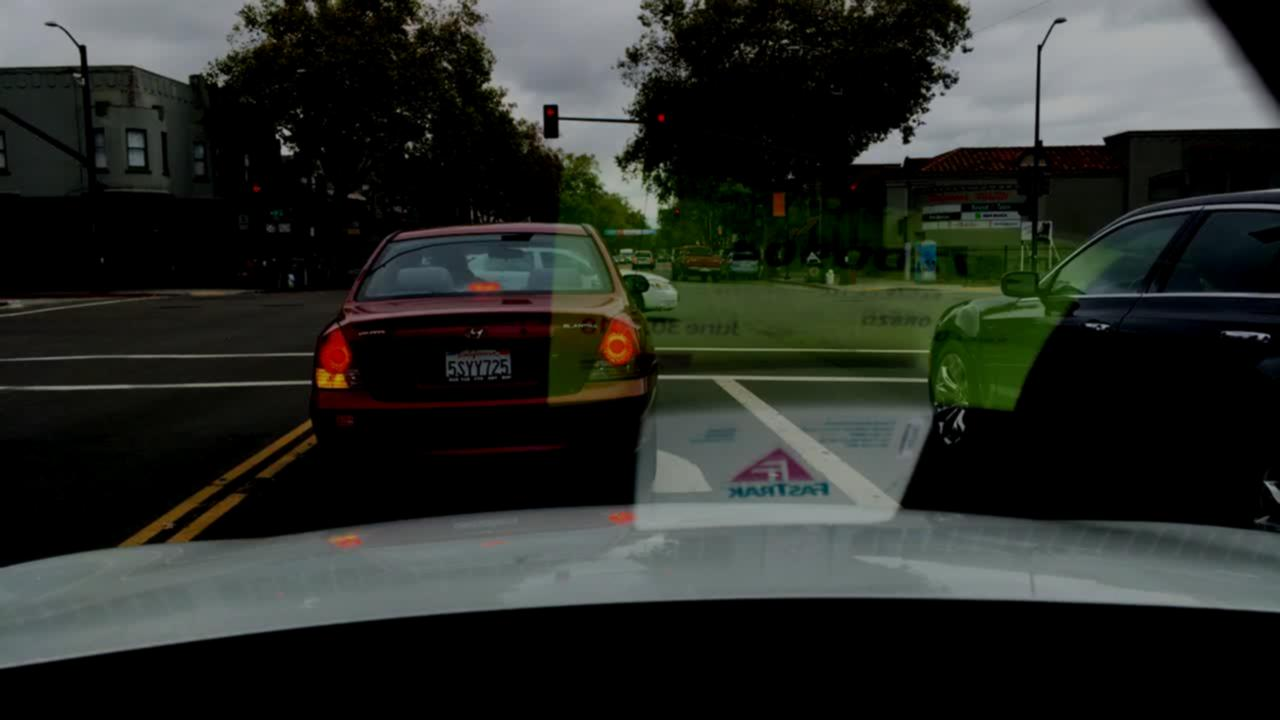Hyundai: (458, 318, 496, 347)
